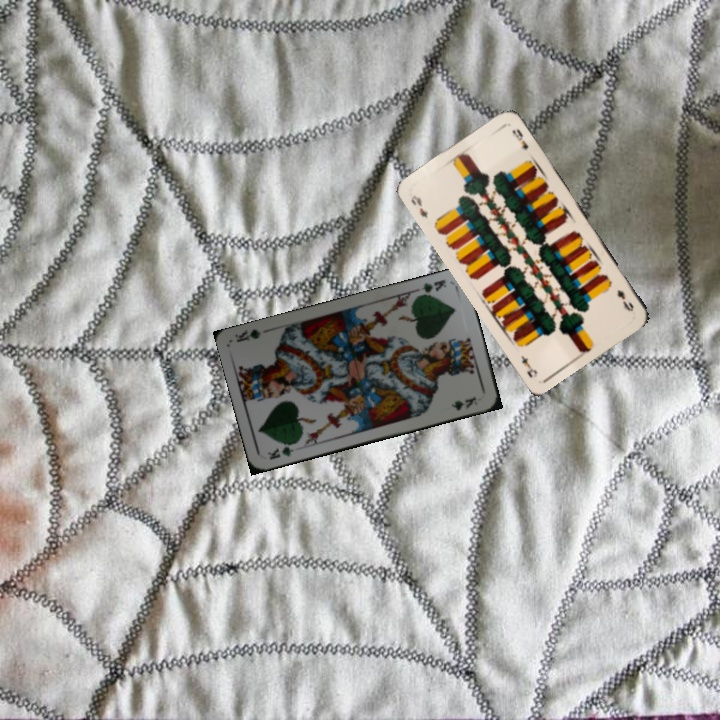E9: (407, 191, 430, 221), (613, 286, 636, 314)
GK: (412, 275, 449, 299), (264, 438, 300, 462)
